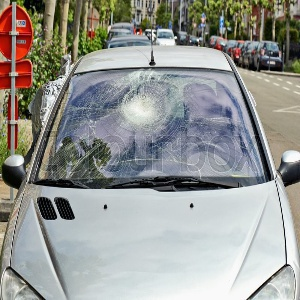front_windshield_glass: (61, 74, 247, 141)
